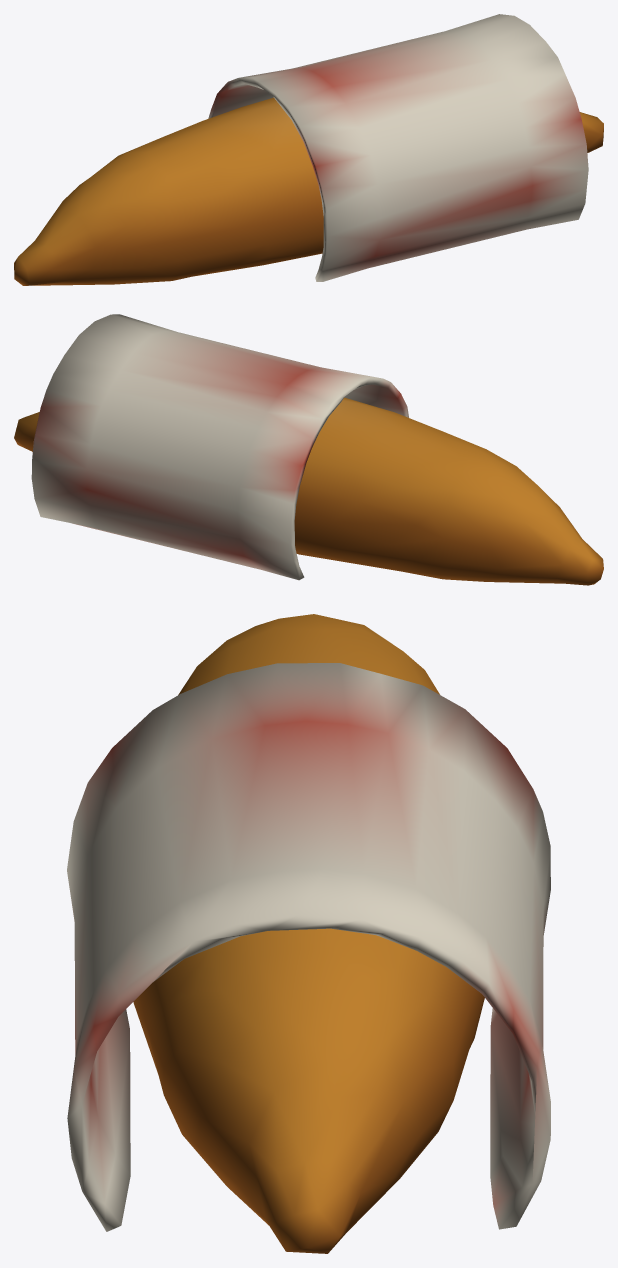
Rendered from banh_goi.glb.
3 views of the same model, one above another, from view 1: azimuth 30°, elevation 25°; view 2: azimuth 150°, elevation 25°; view 3: azimuth 270°, elevation 25° (orthographic). The views are drawn at different scales.
Parts seen in each view (by area): view 1: banh_goi; view 2: banh_goi; view 3: banh_goi.
Part boxes in pixels (x1,y1,x2,y2): banh_goi: (14, 14, 603, 285); banh_goi: (14, 314, 603, 585); banh_goi: (67, 614, 550, 1253).
Size of the model in its own units: 0.2329 by 0.0603 by 0.0832.
